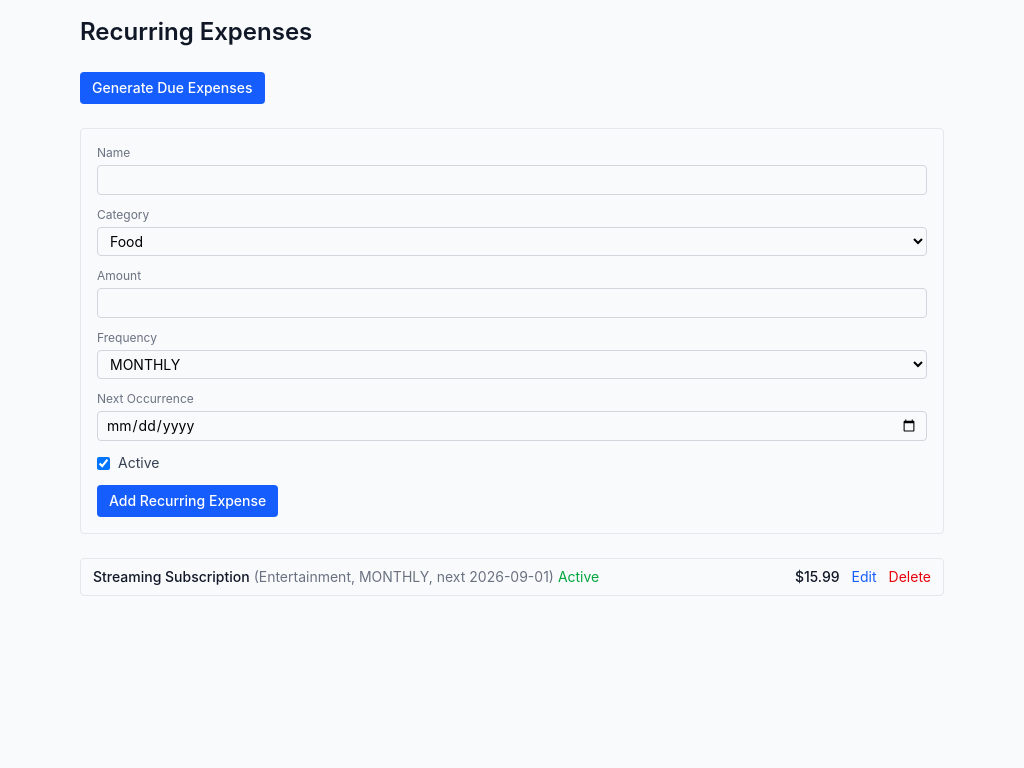
Test: RecurringExpensesPage › generates due expenses and shows a confirmation message
The image size is (1024, 768).
Expected: the text "Streaming Subscription" is shown, [93,568,250,585]
Click the button "Generate Due Expenses": (172, 88) [80,72,265,104]
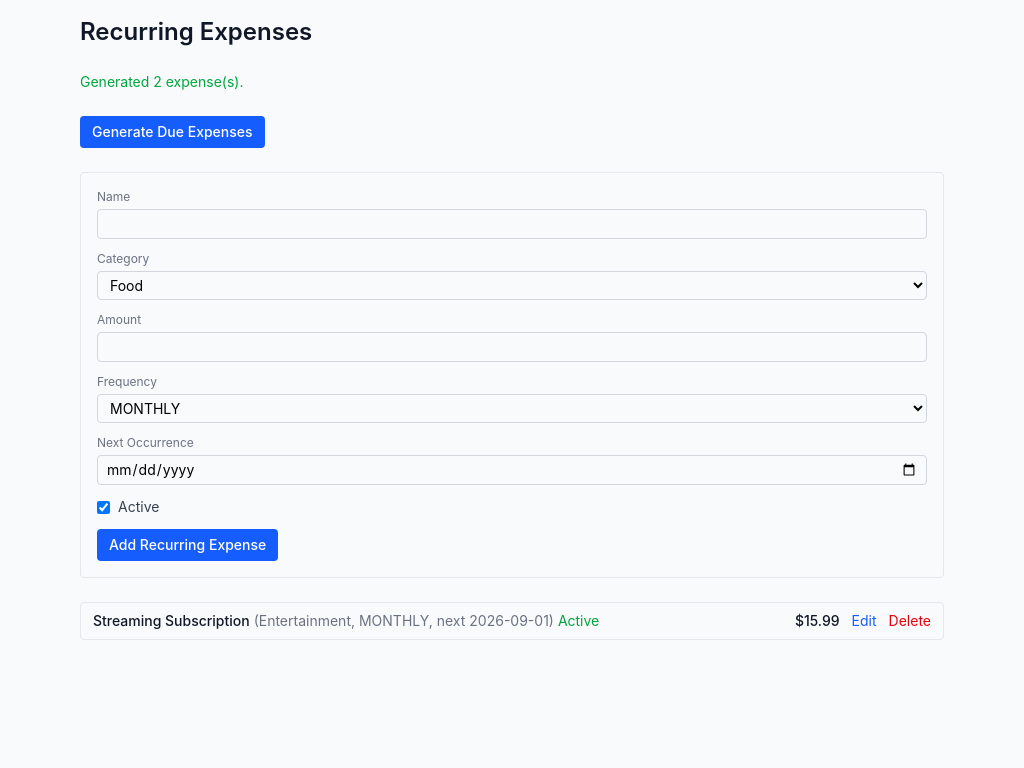
Expected: the text "Generated 2 expense(s)." is shown, [80,73,244,90]
